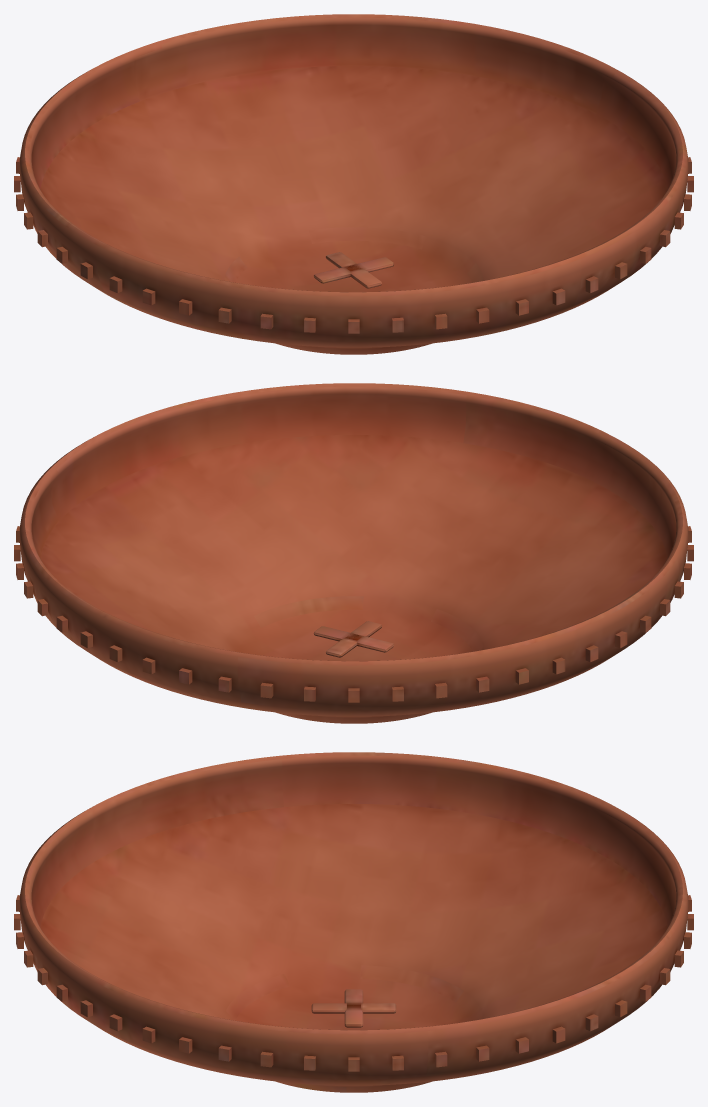
The model's file is red_slip_bowl.glb.
3 views of the same model, one above another, from view 1: azimuth 30°, elevation 25°; view 2: azimuth 150°, elevation 25°; view 3: azimuth 270°, elevation 25° (orthographic).
Parts seen in each view (by area): view 1: red_slip_bowl; view 2: red_slip_bowl; view 3: red_slip_bowl.
Boxes of the visible parts, <box> form: red_slip_bowl: <box>14,14,693,354</box>; red_slip_bowl: <box>14,383,693,723</box>; red_slip_bowl: <box>14,752,693,1092</box>.
Bounding box in the file's own units: 0.209 × 0.0545 × 0.209.
1 material, 1 textured.
